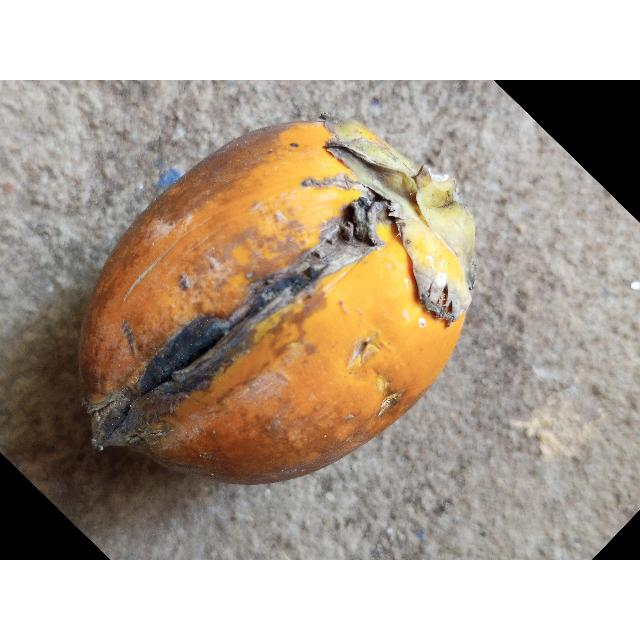damaged: (76, 122, 478, 487)
